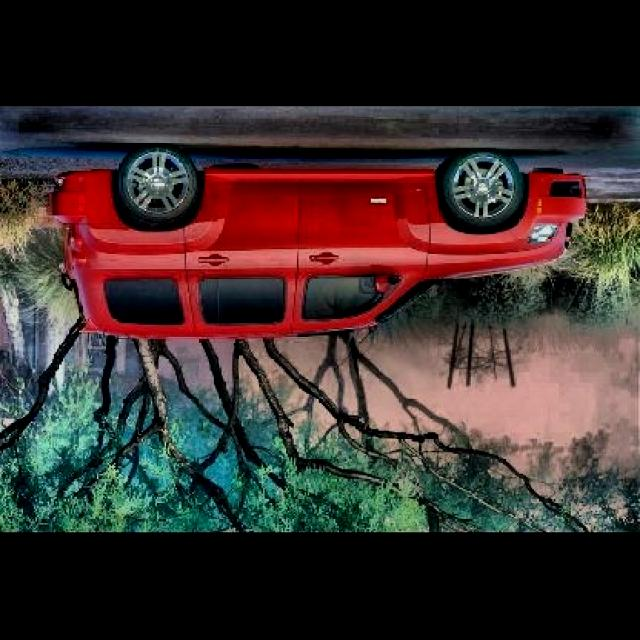red: (49, 150, 583, 341)
